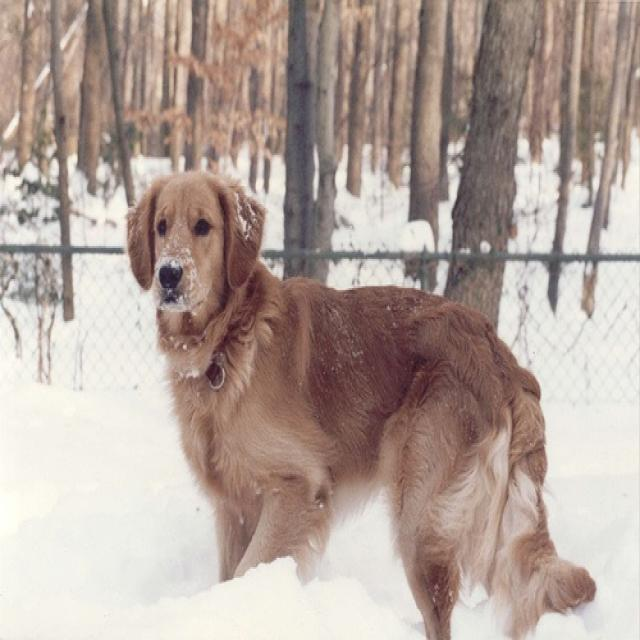dog: (124, 172, 597, 638)
